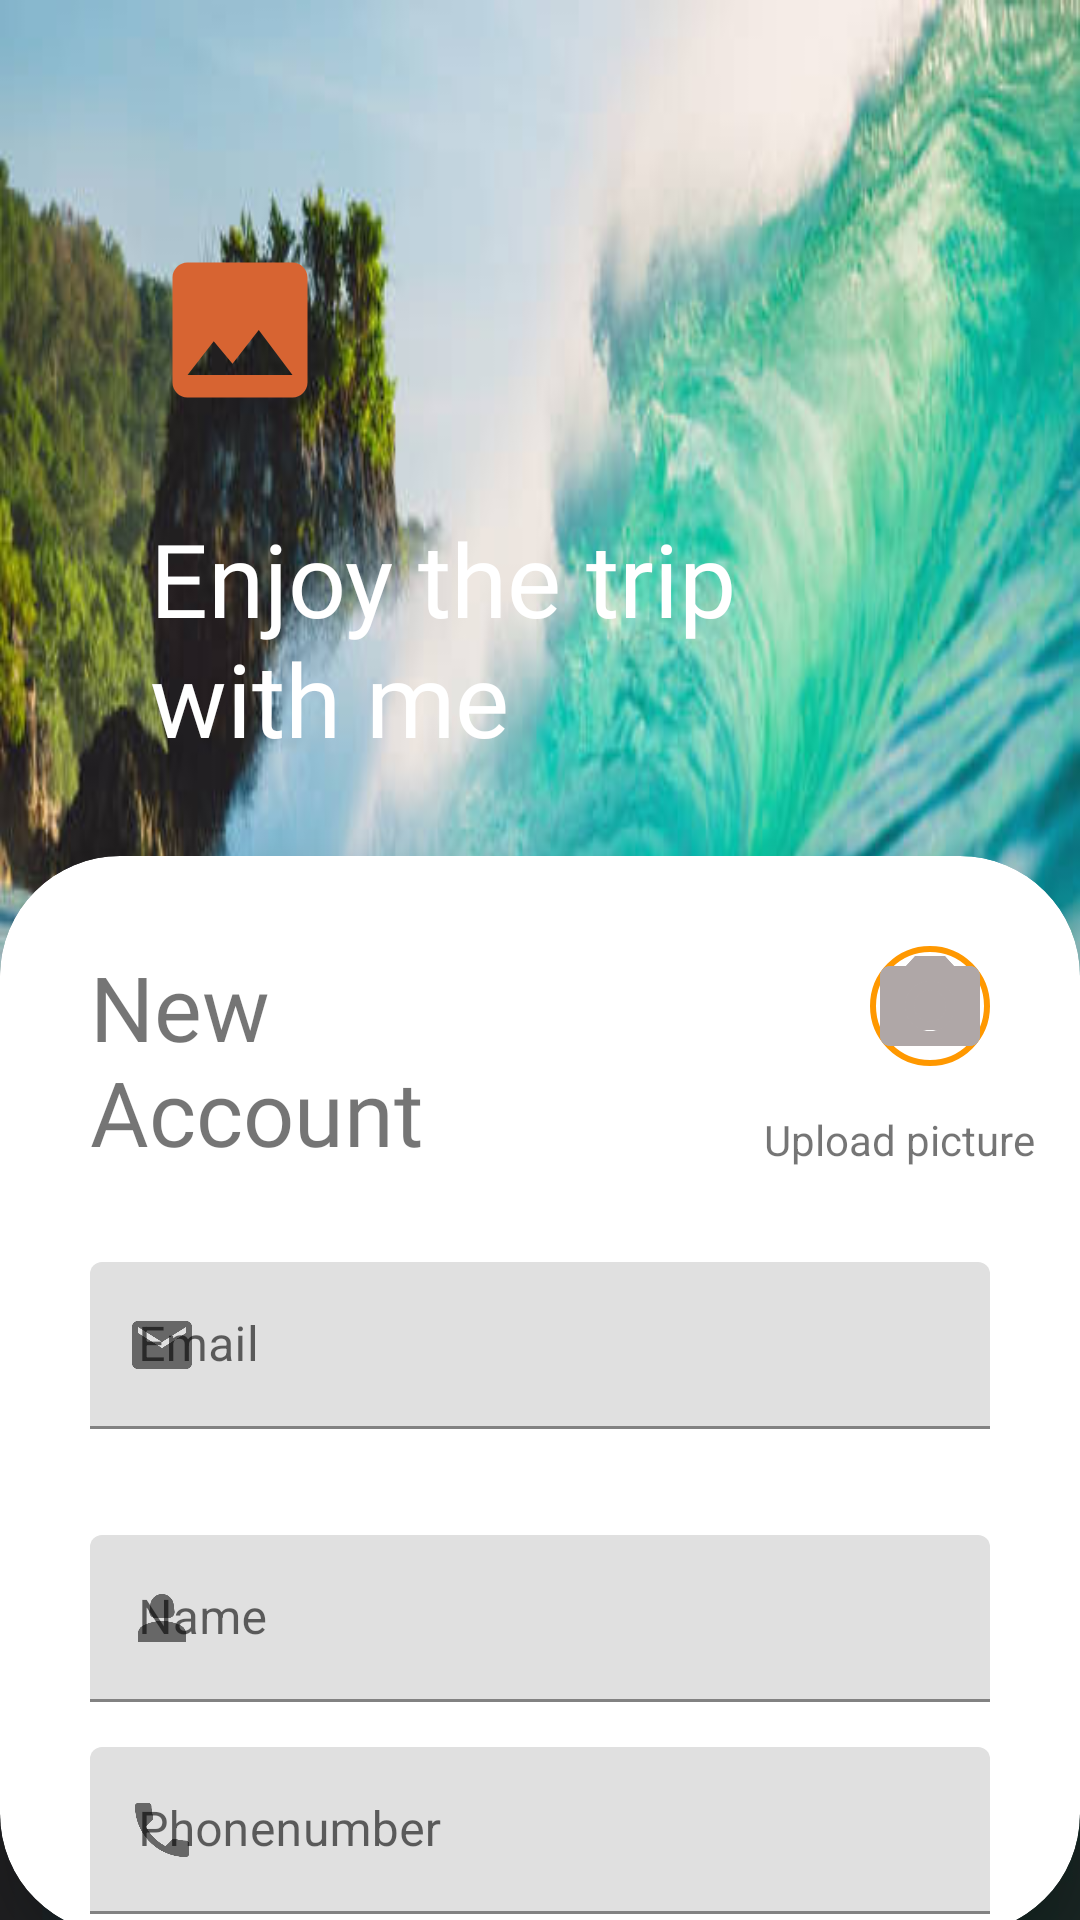

Icon click points for this 1080x1920 phone screenshot, format point (x, y):
Profile Camera: point (930, 1006)
